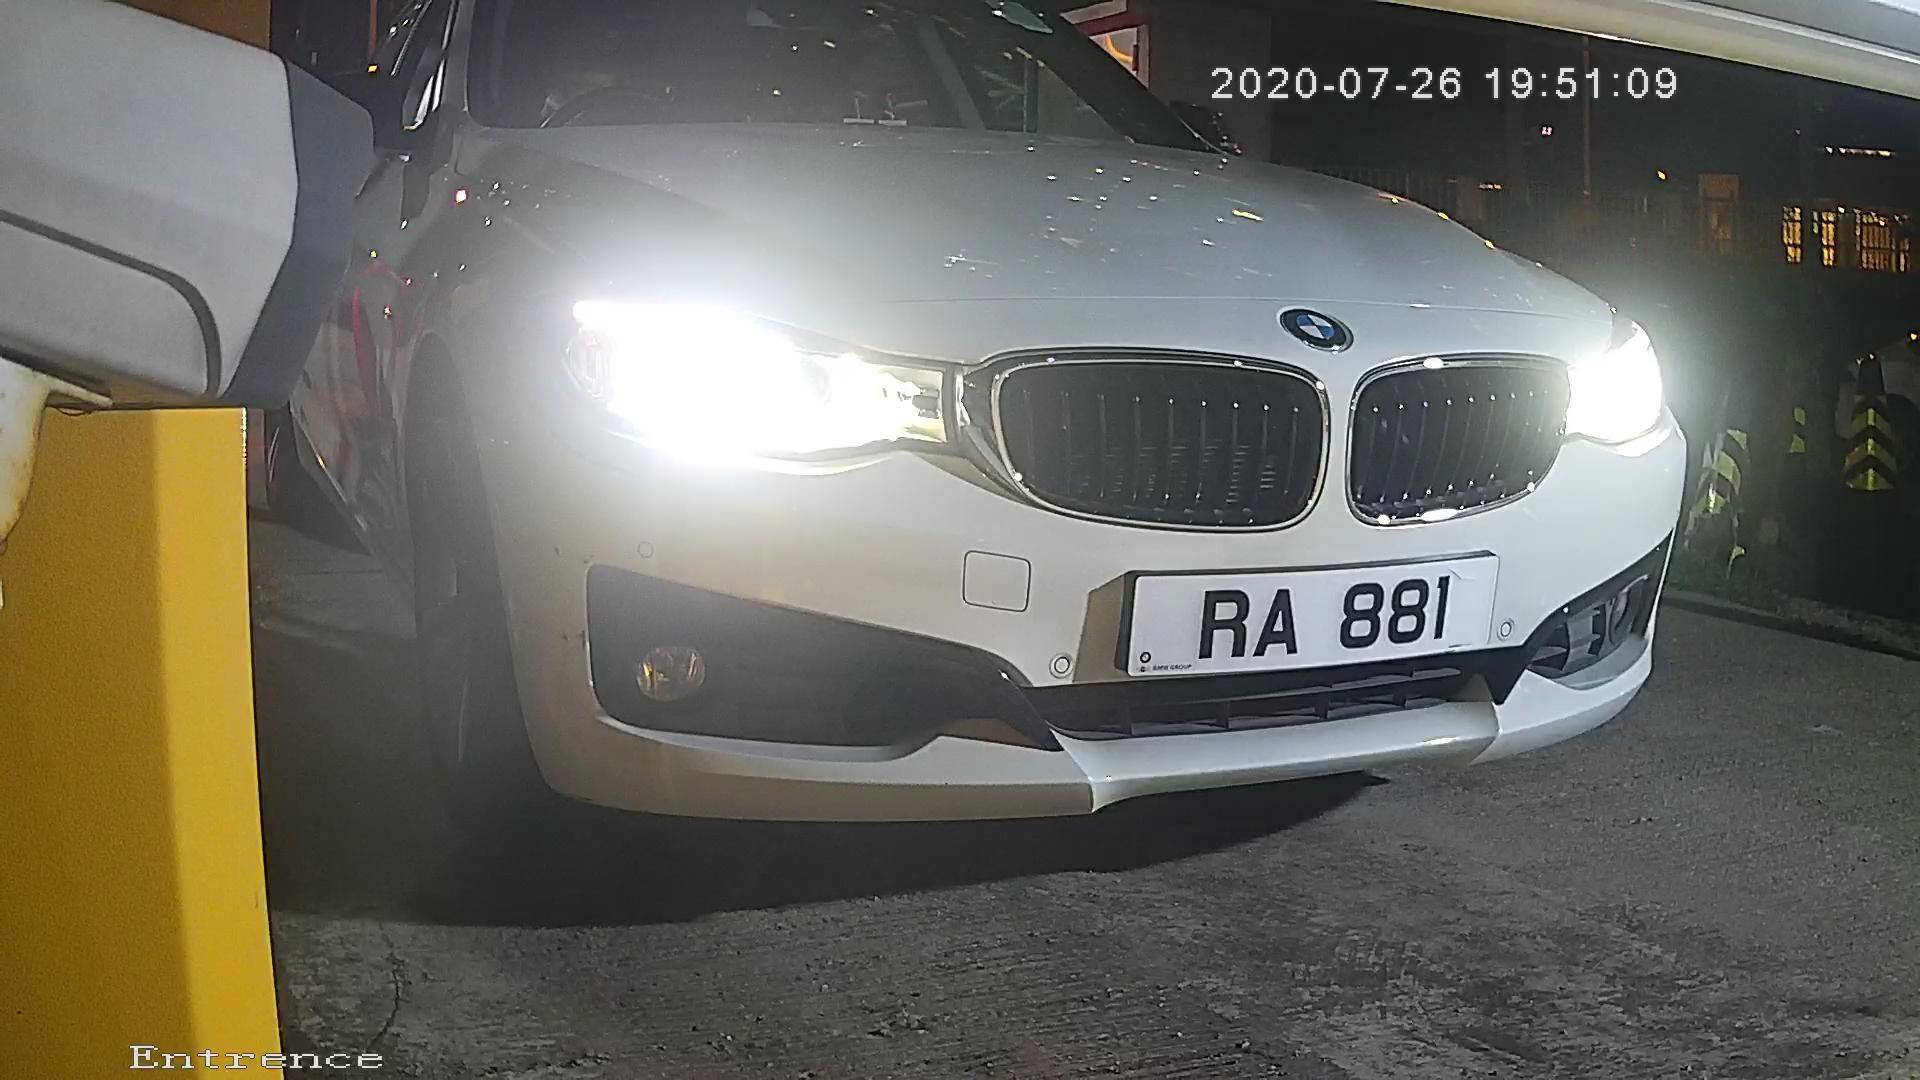Car: (181, 63, 1826, 868)
License Plate: (1099, 536, 1528, 703)
